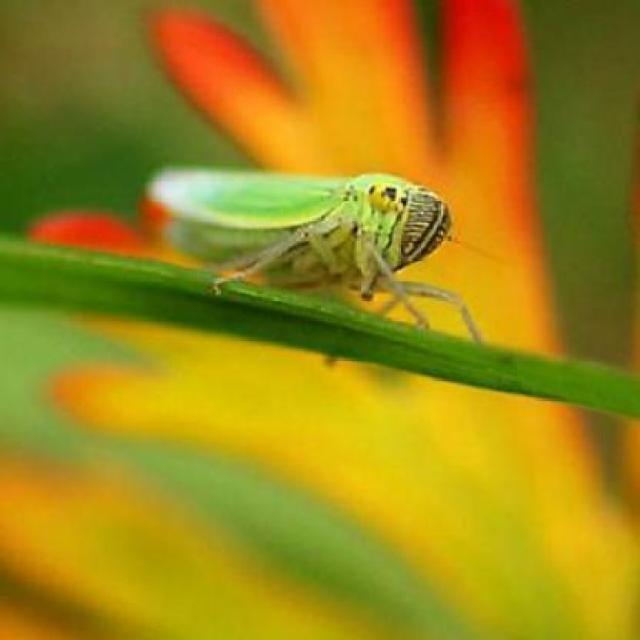green-leafhopper: (147, 159, 465, 330)
